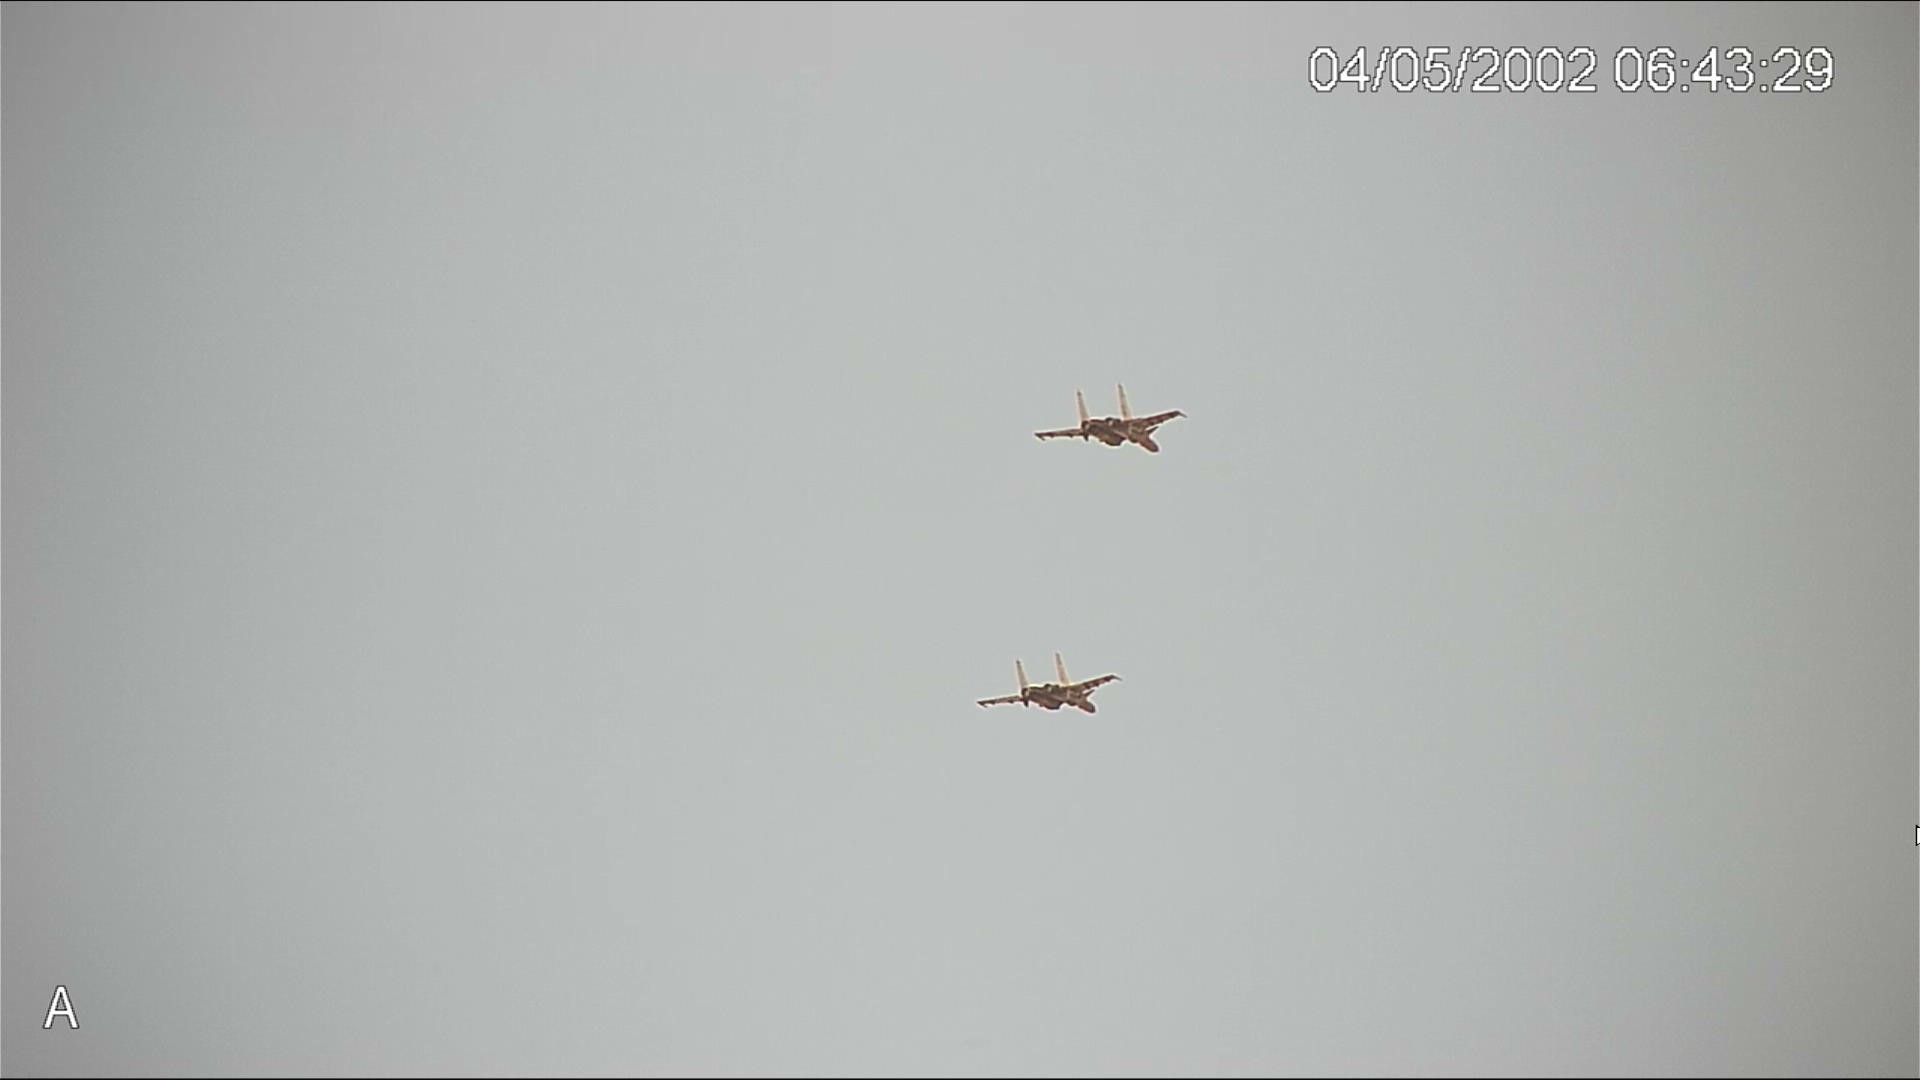SU_30: (1036, 386, 1187, 465), (985, 653, 1124, 720)
